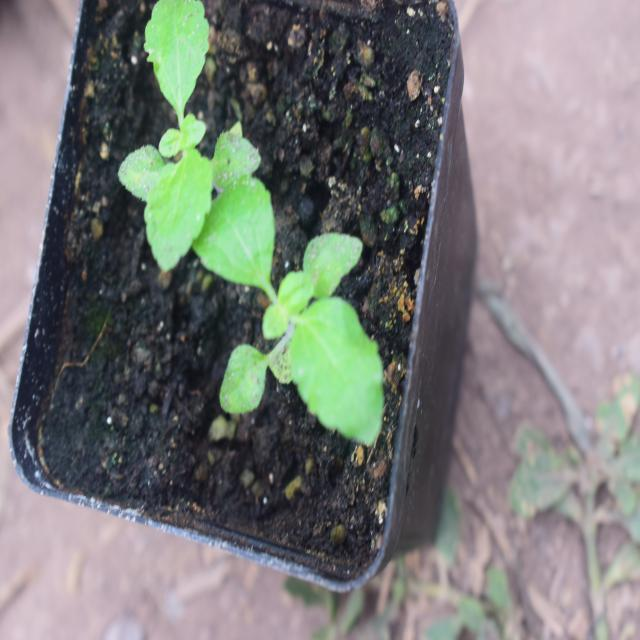billygoat_weed: (210, 139, 378, 459)
